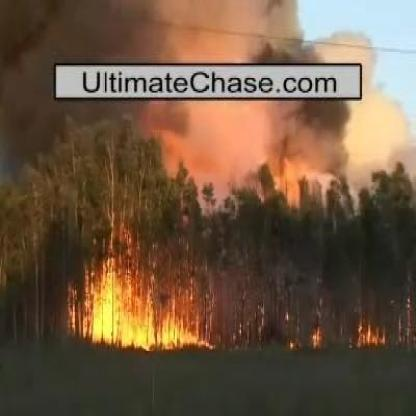-: (26, 6, 308, 59)
foggia-v2-map80-epoch100 - v1 4323: (91, 268, 193, 348)
